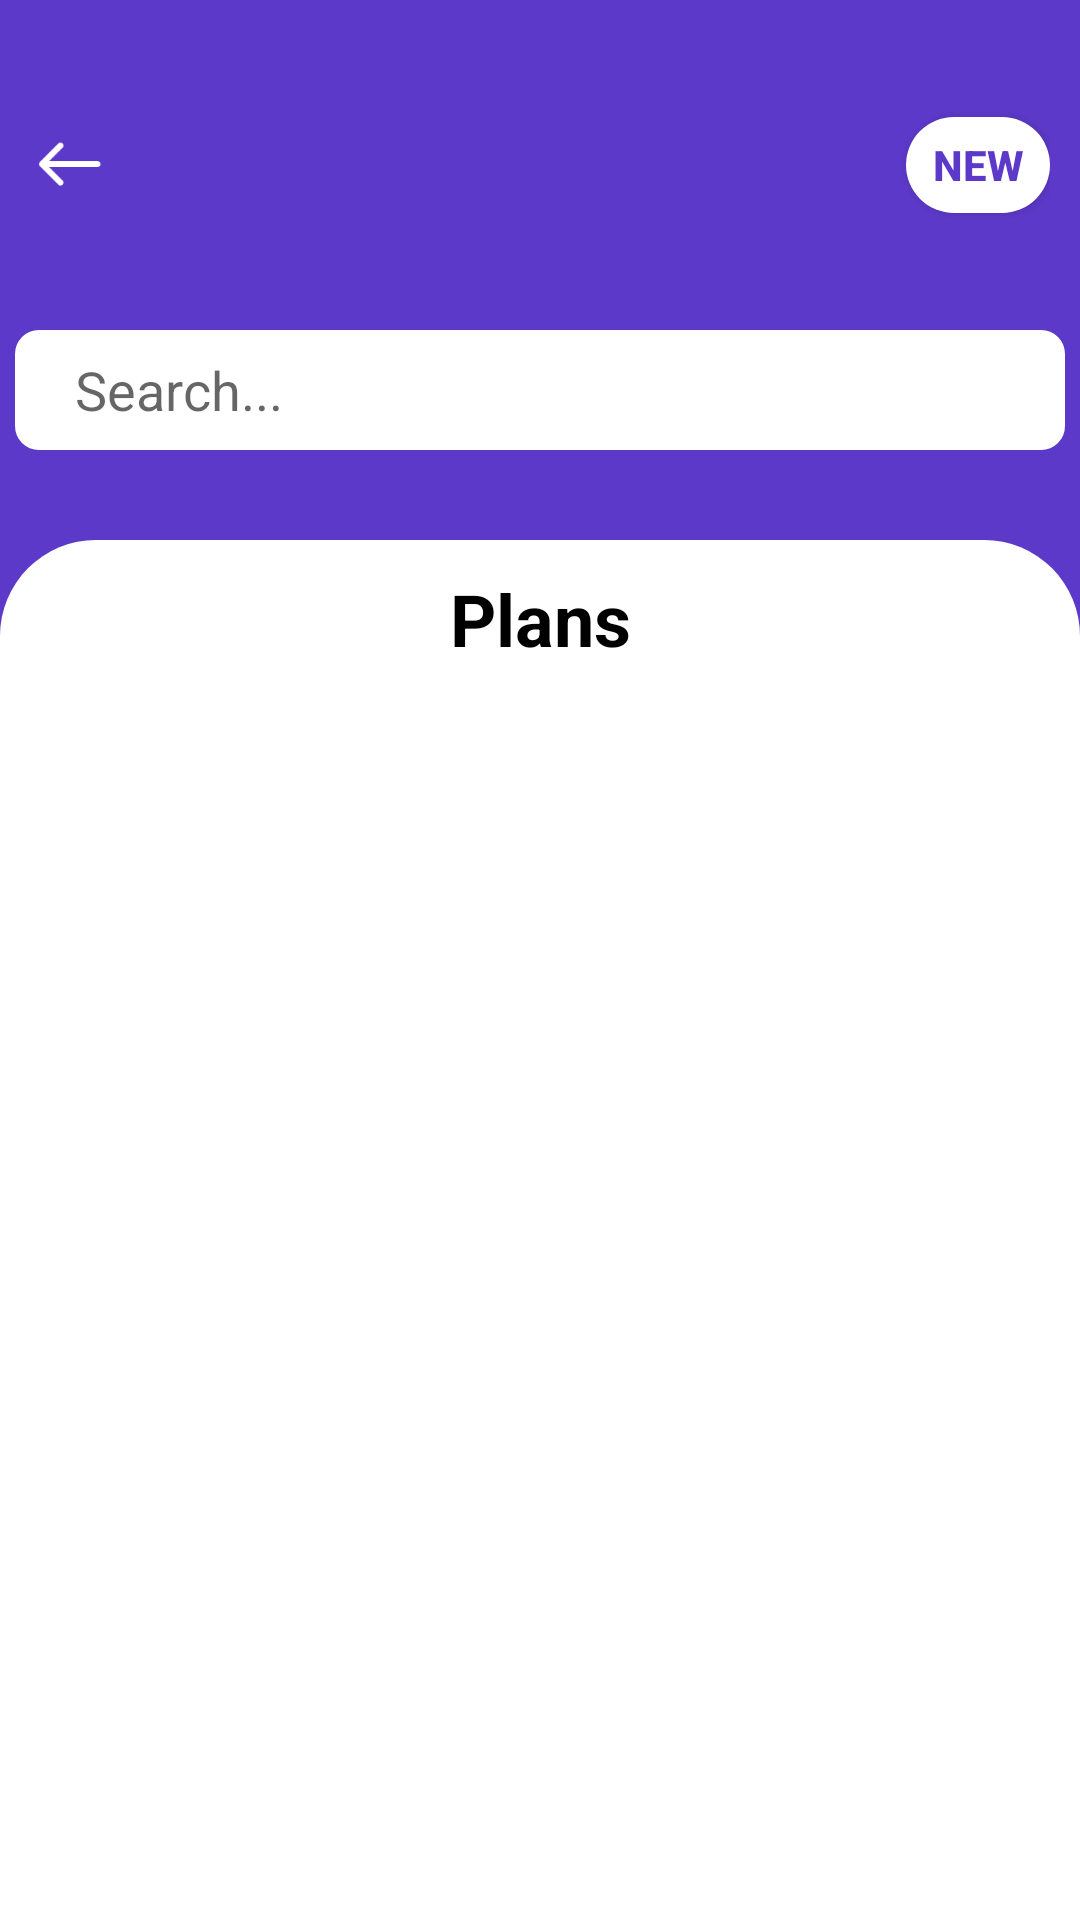

Icons on this 1080*1920 Android screen, each with the point to tap as [x,y]:
back arrow: [70,164]
